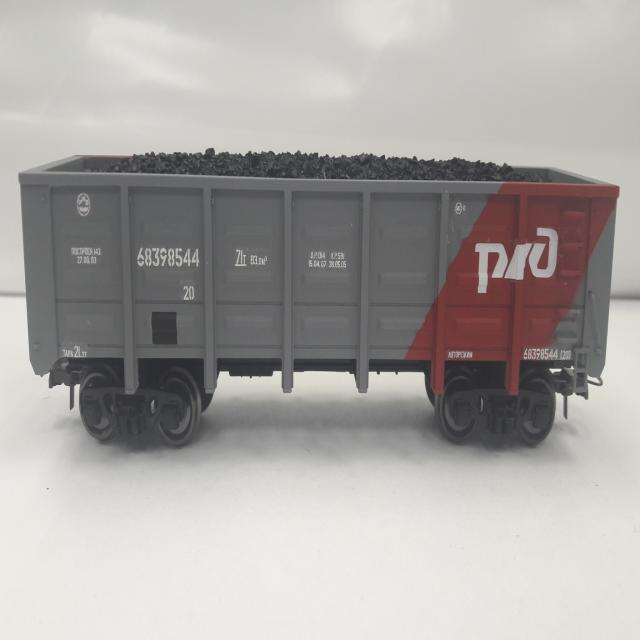Cart: (78, 370, 202, 453), (435, 372, 558, 450)
Open wagon: (20, 147, 620, 396)
